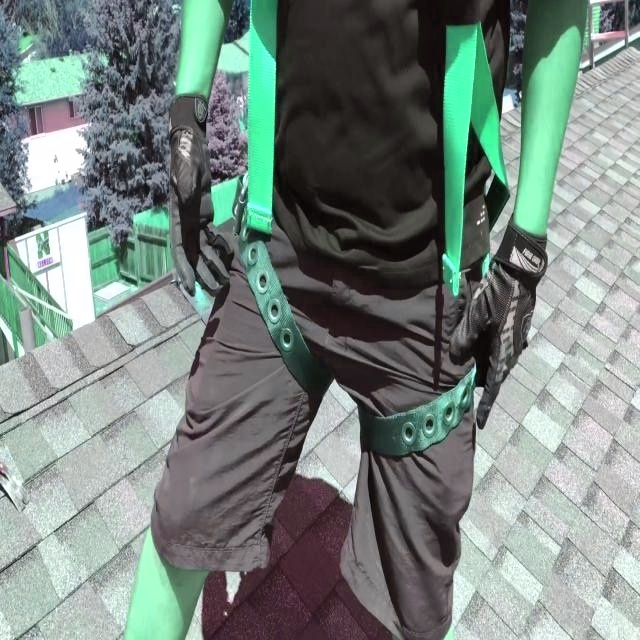safety belt: (211, 30, 488, 450)
